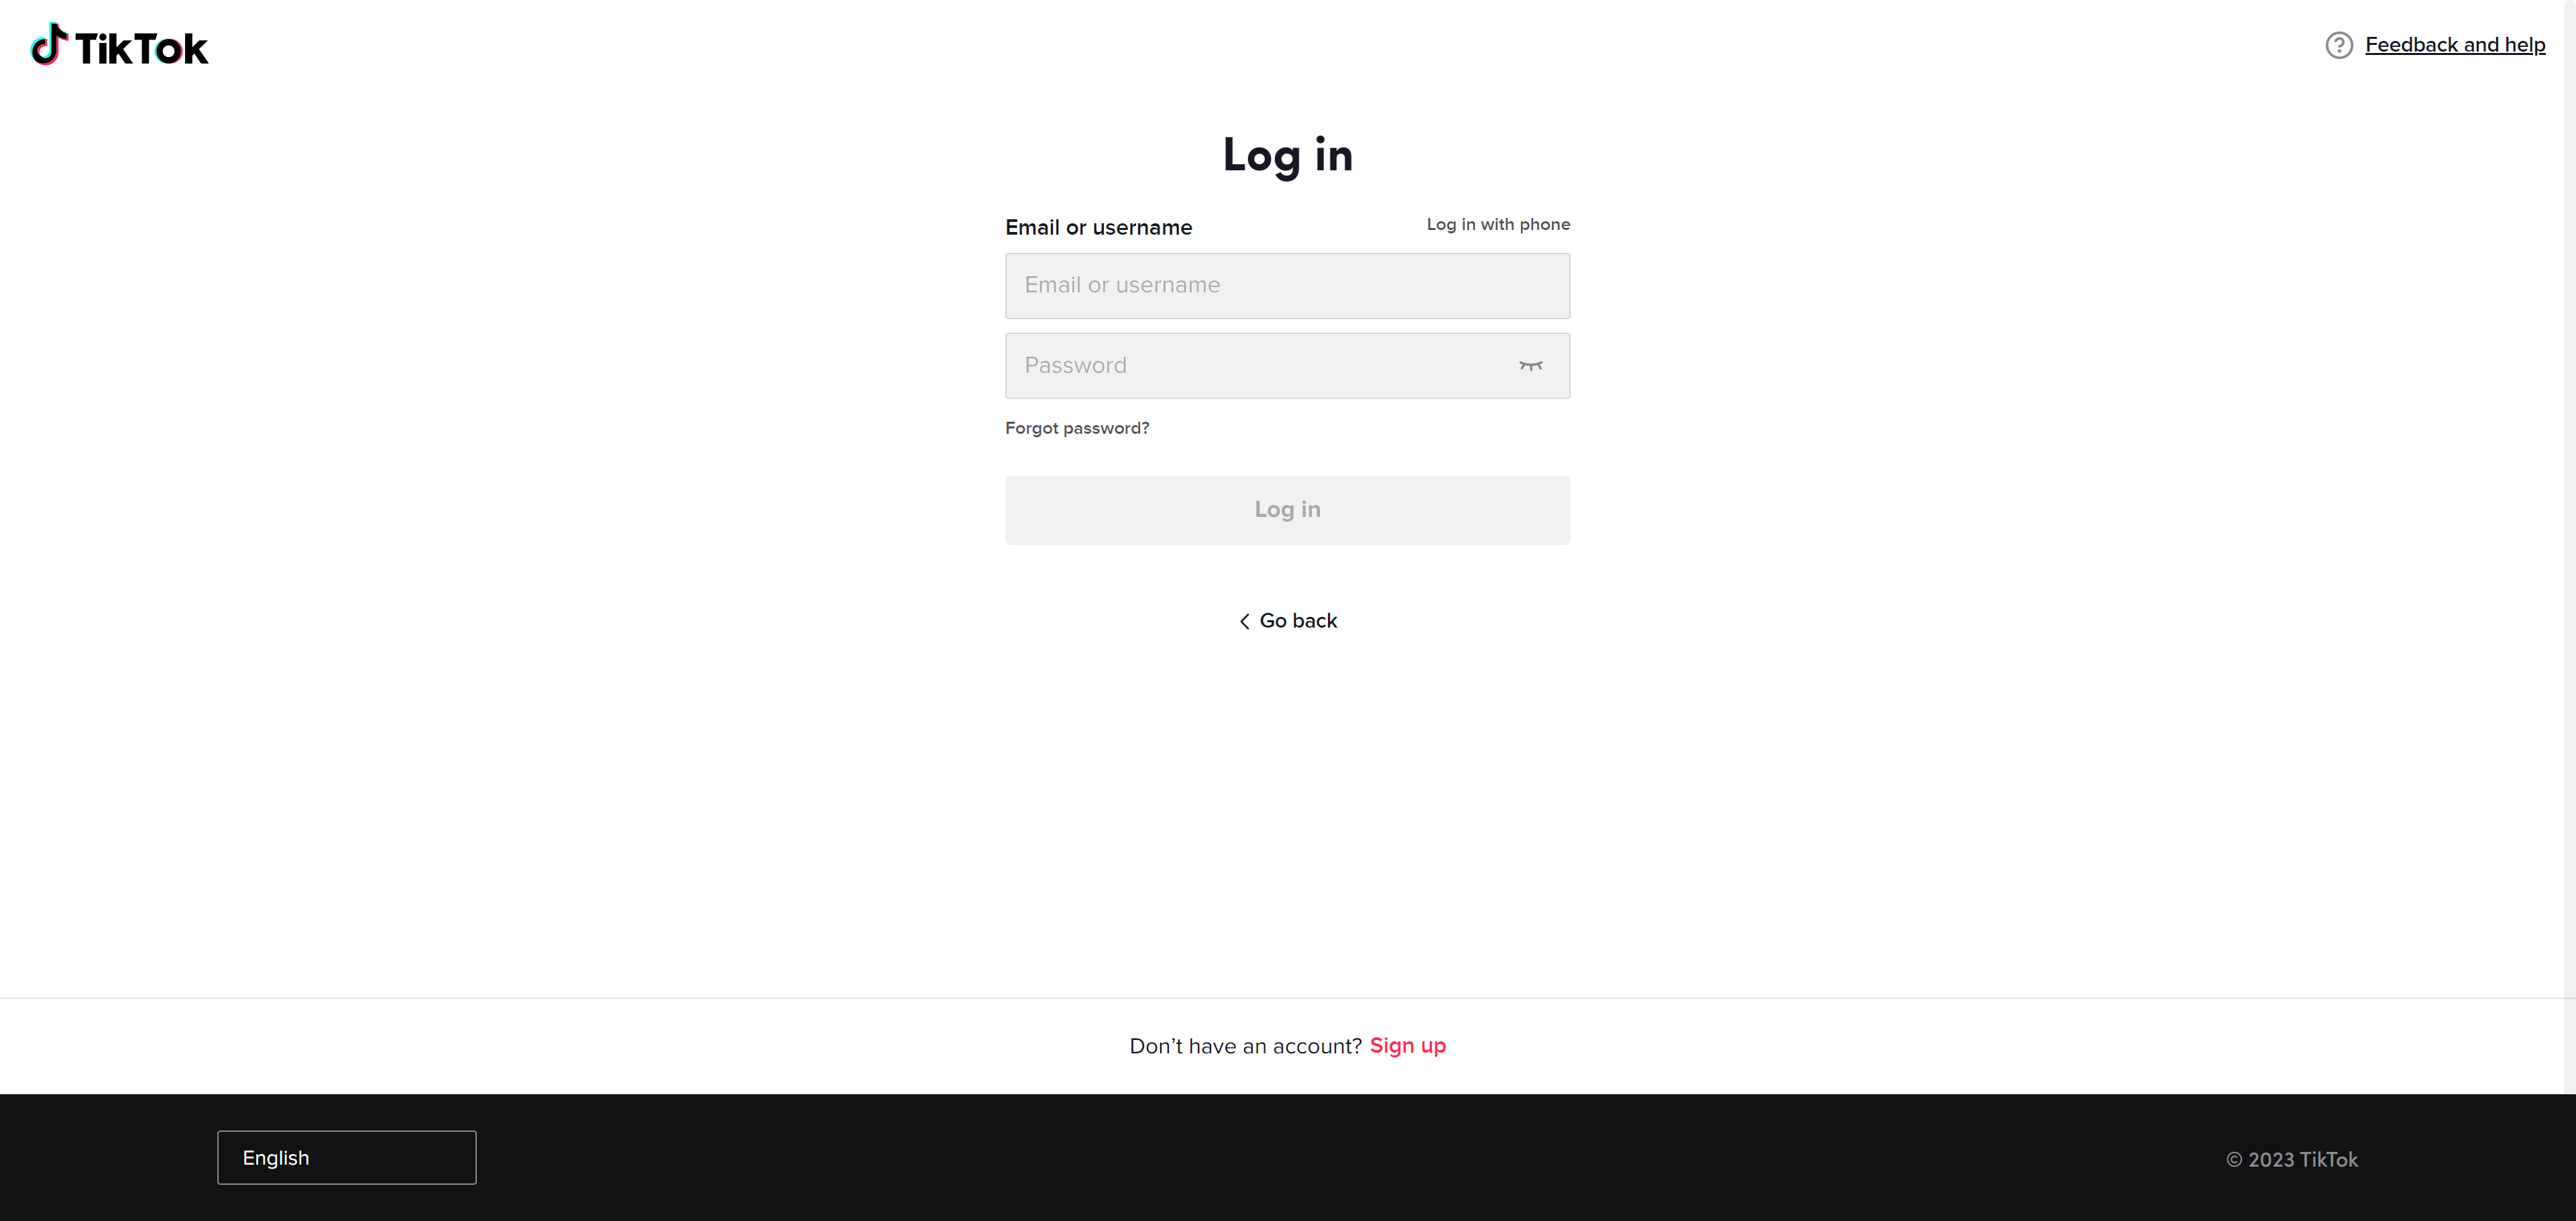login_button: (1005, 477, 1571, 546)
login_form: (999, 210, 1577, 551)
